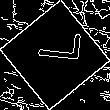L_W: (28, 37, 82, 73)
